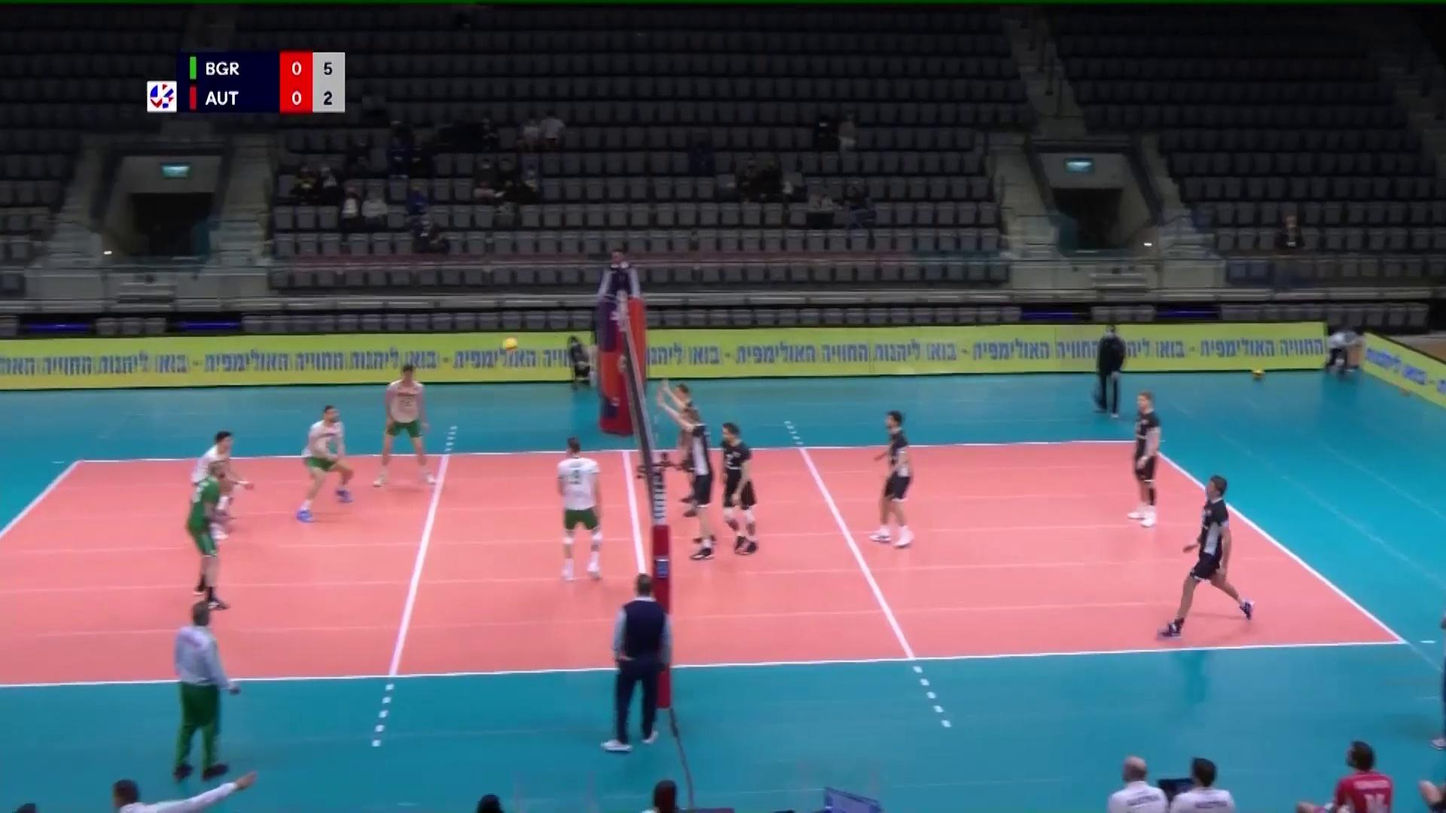ball: (502, 337, 518, 349)
